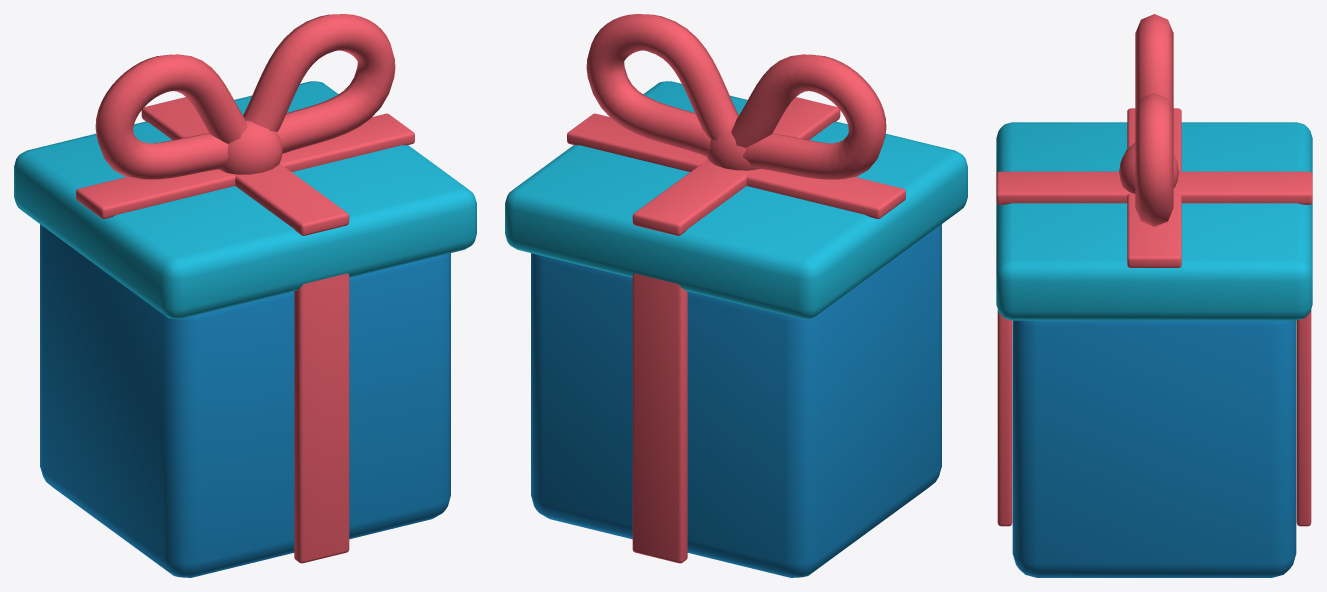
The model's file is gift_box.glb.
3 renders of one model, left to right at view 1: azimuth 30°, elevation 25°; view 2: azimuth 150°, elevation 25°; view 3: azimuth 270°, elevation 25°, orthographic. The views are drawn at different scales.
Visible parts, largest first — view 1: gift_box; view 2: gift_box; view 3: gift_box.
Part boxes in pixels (x1,y1,x2,y2): gift_box: [14, 14, 476, 577]; gift_box: [505, 14, 967, 577]; gift_box: [996, 14, 1312, 577].
Bounding box in the file's own units: 0.65 × 0.925 × 0.58.
